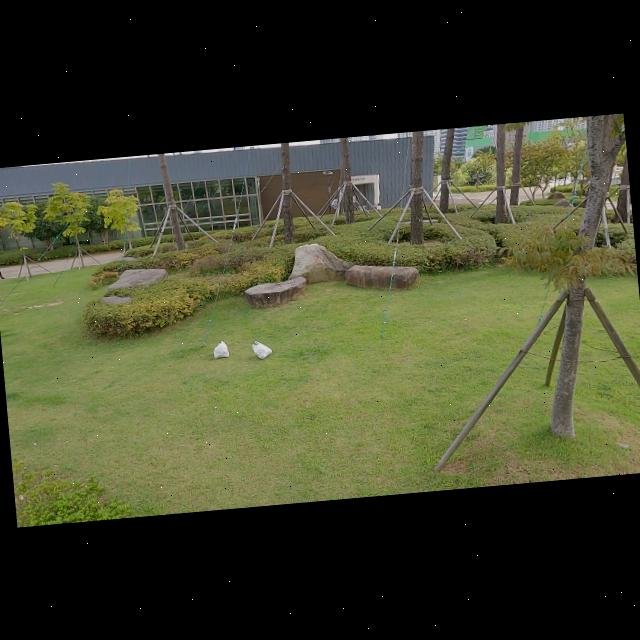trash: (250, 338, 273, 360), (210, 339, 230, 359)
